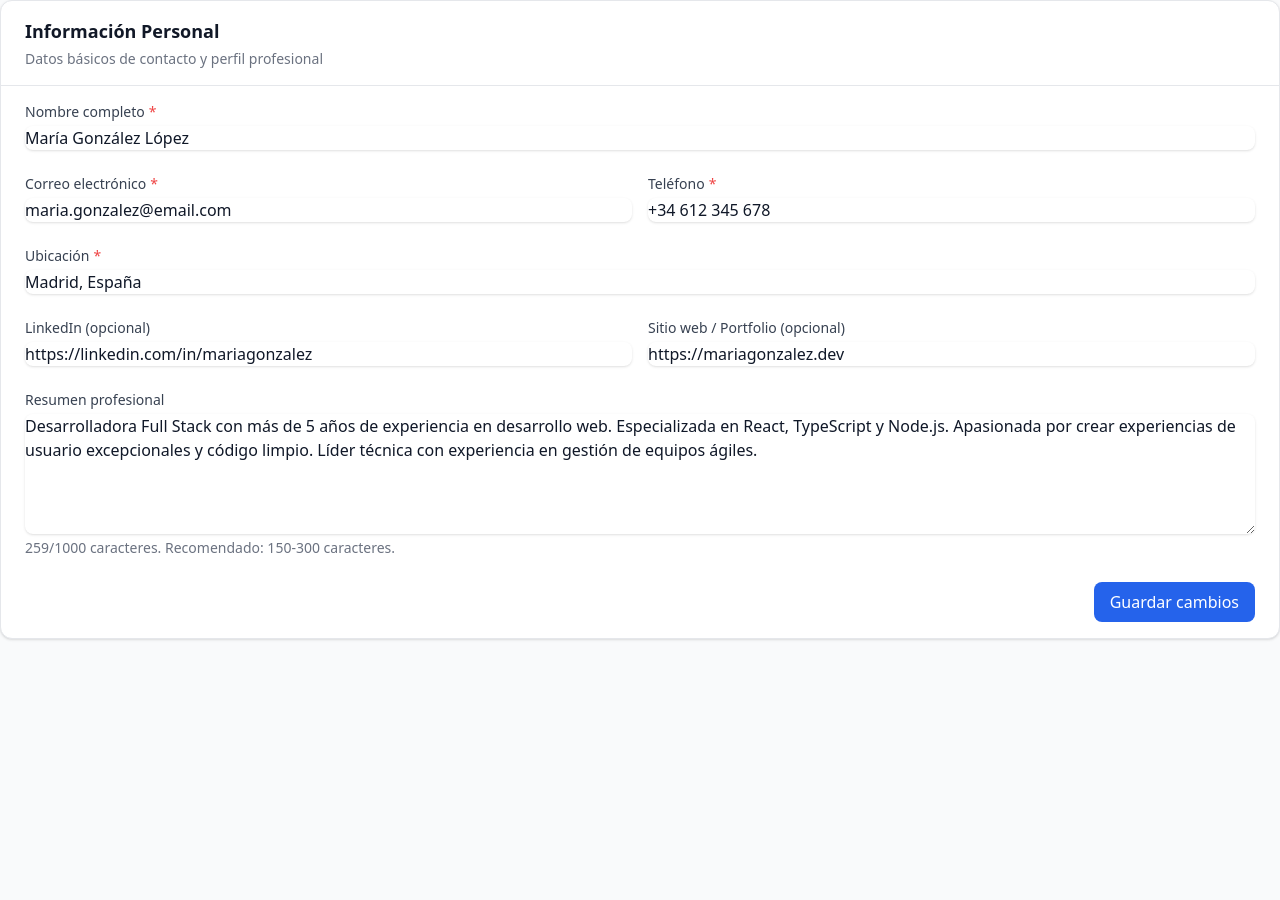
it: PersonalInfoForm Validation › muestra error cuando el nombre está vacío
Clear the field labelled "Nombre completo*" at (640,138), box [25,126,1255,150]
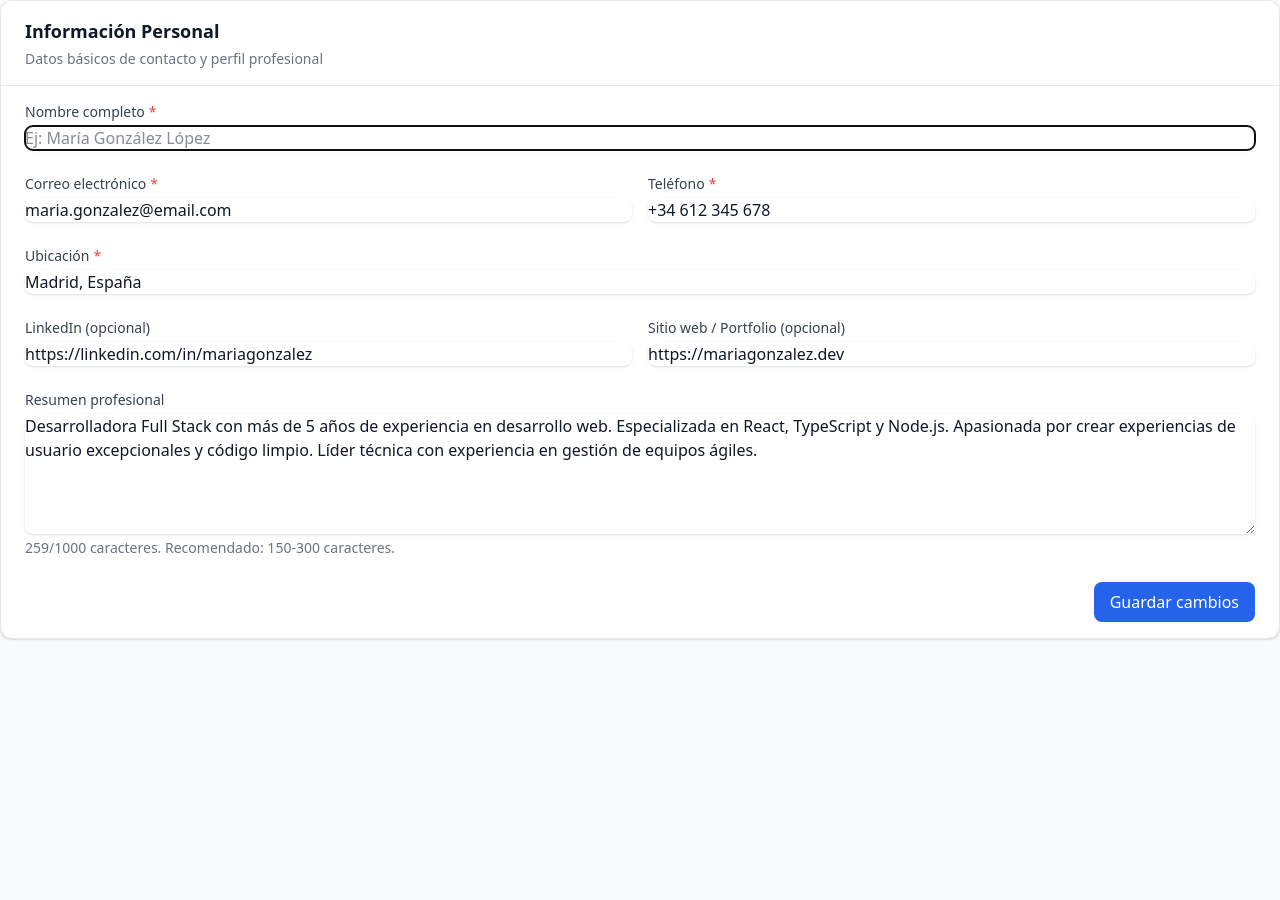
Press Tab
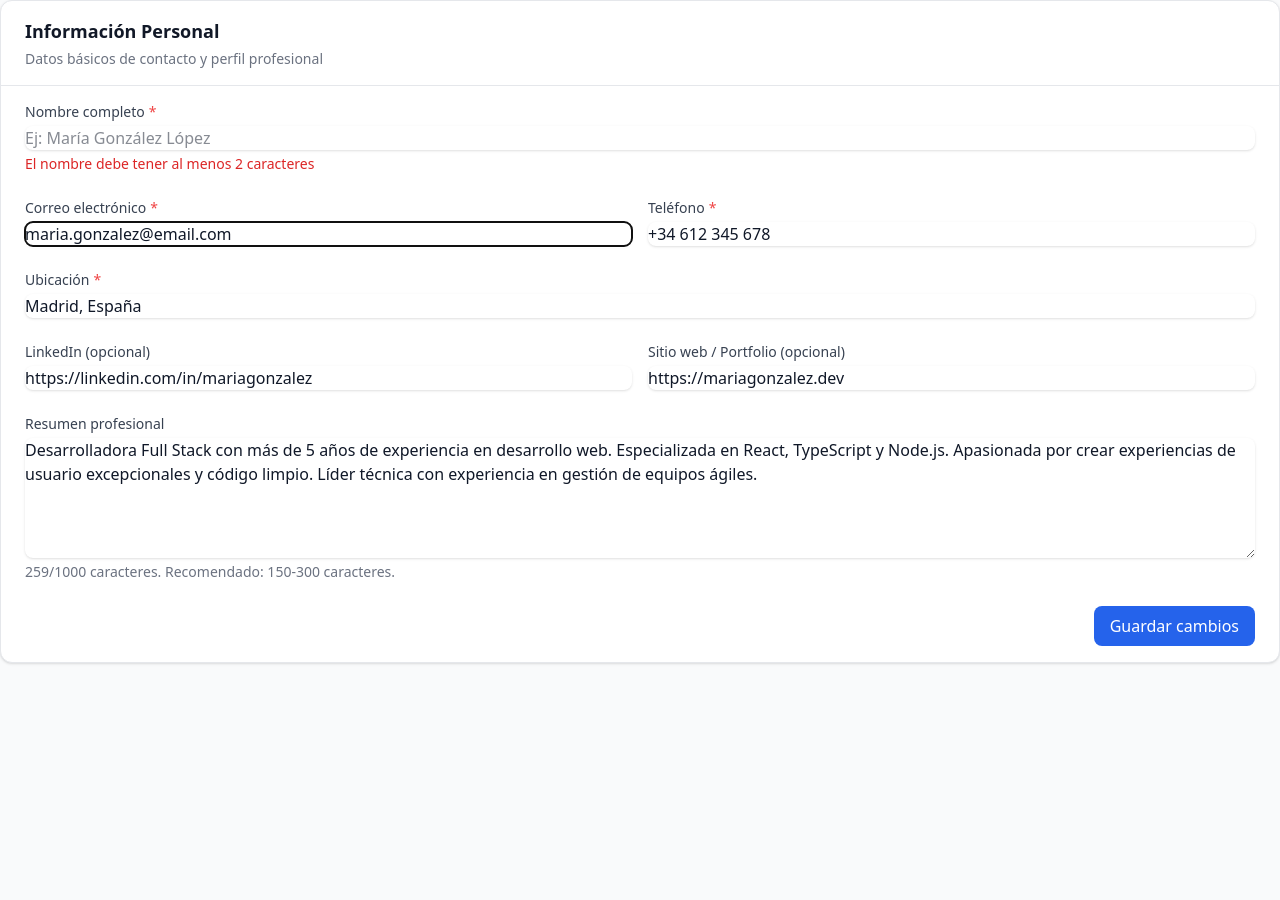
Check: the message shows "al menos 2 caracteres", box [25,154,314,173]
